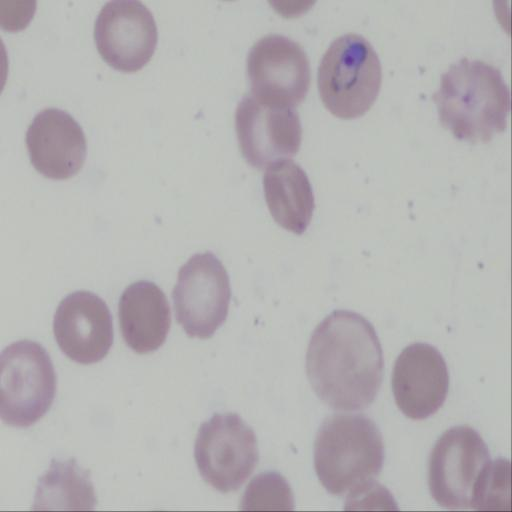Infected: (318, 35, 382, 118)
Uninfected: (307, 310, 384, 410), (431, 57, 512, 139), (237, 95, 306, 176), (317, 416, 384, 497), (196, 413, 265, 490), (27, 106, 90, 186), (429, 424, 490, 505), (52, 289, 117, 365), (0, 339, 55, 425), (246, 37, 312, 108), (96, 0, 159, 73), (390, 344, 451, 419), (177, 253, 229, 338), (263, 159, 314, 237), (120, 281, 170, 354)
